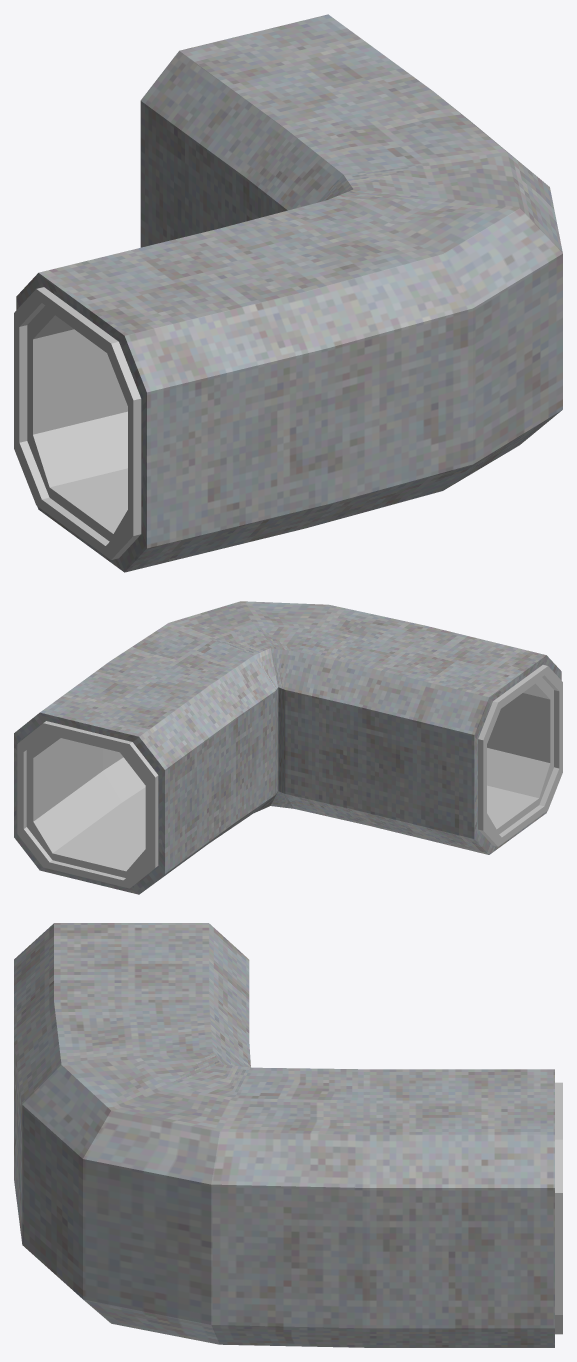
The model's file is shipcurvedhallway.fbx.
3 views of the same model, one above another, from view 1: azimuth 30°, elevation 25°; view 2: azimuth 150°, elevation 25°; view 3: azimuth 270°, elevation 25° (orthographic). The views are drawn at different scales.
Visible parts, largest first — view 1: geo_shipcurvehallway; view 2: geo_shipcurvehallway; view 3: geo_shipcurvehallway.
Boxes of the visible parts, x1=… form: geo_shipcurvehallway: x1=14, y1=14, x2=562, y2=572; geo_shipcurvehallway: x1=14, y1=601, x2=562, y2=894; geo_shipcurvehallway: x1=14, y1=923, x2=562, y2=1347.
Size of the model in its own units: 1167 by 500 by 1167.
